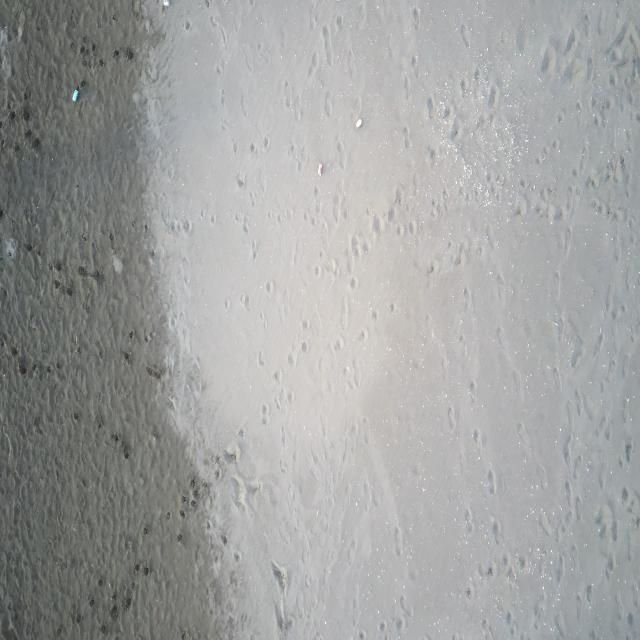Garbage: (4, 238, 16, 258), (71, 87, 79, 100), (316, 164, 323, 176), (355, 118, 362, 128), (163, 0, 168, 7)
